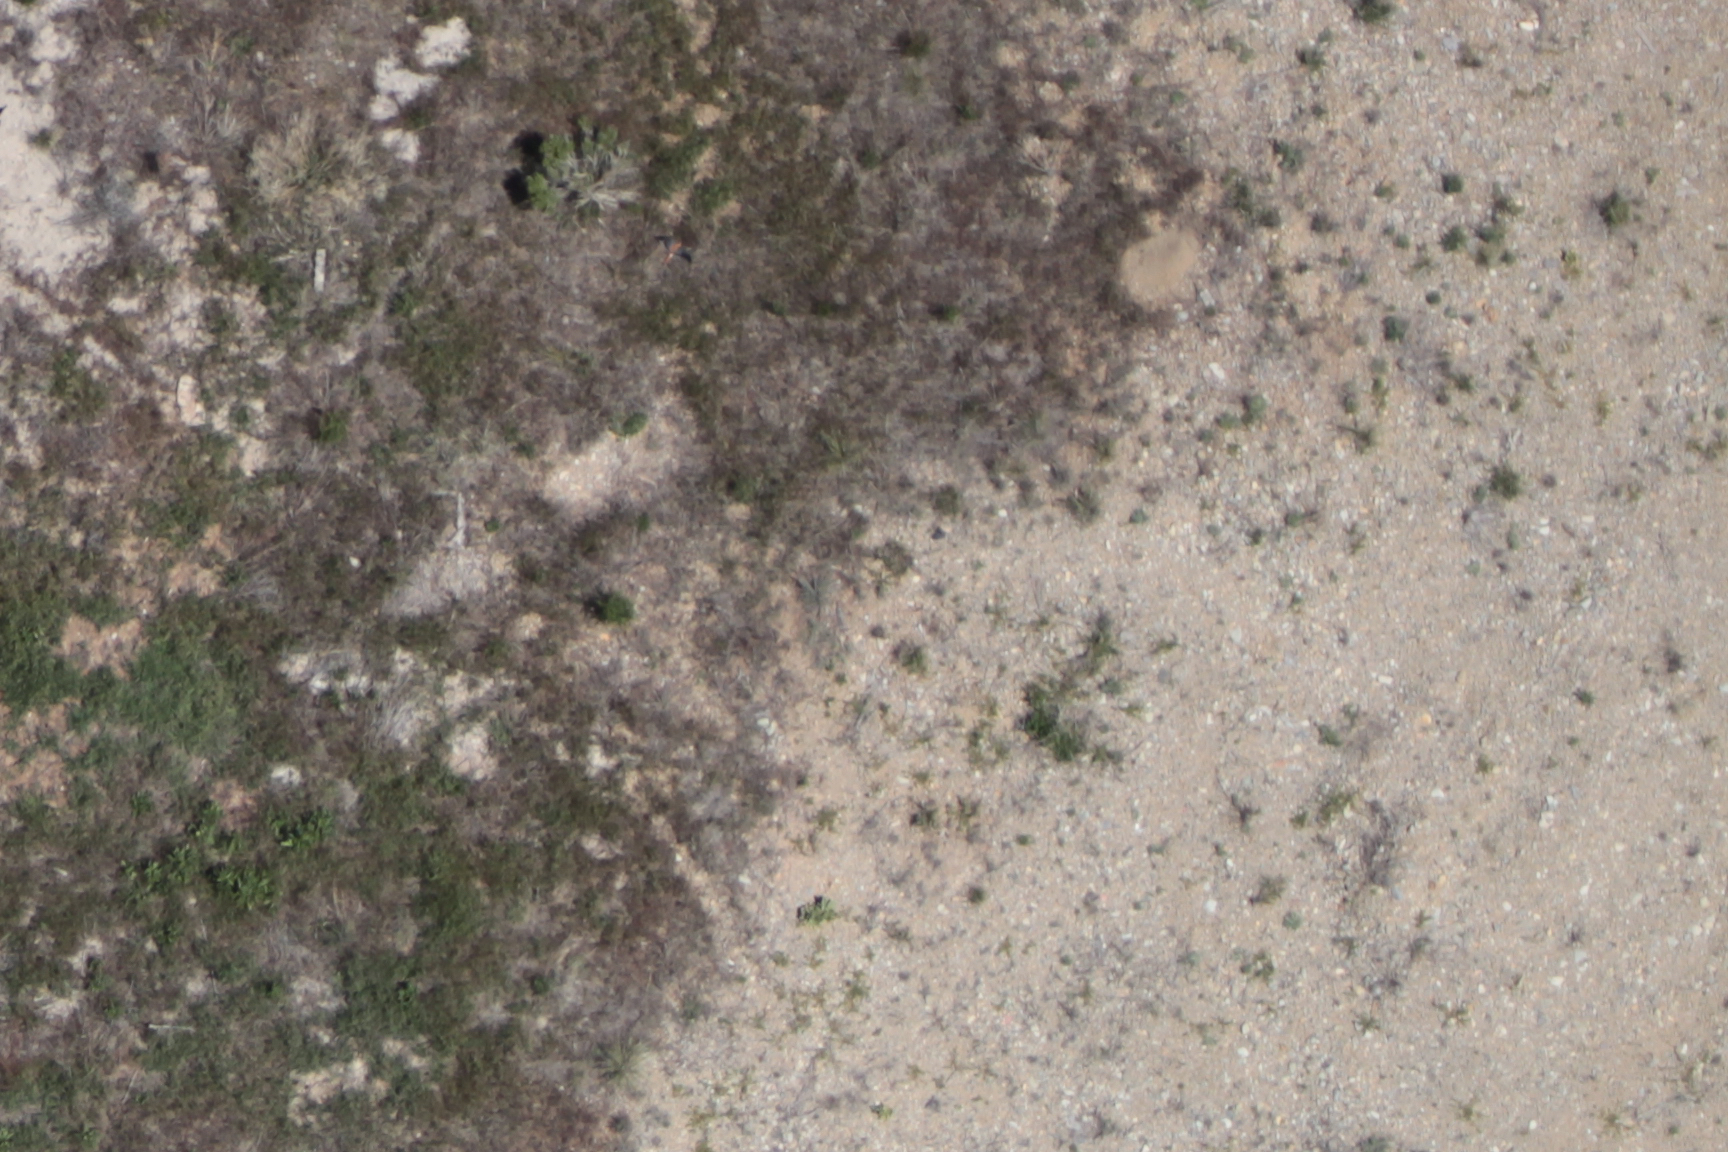burrow: (1124, 226, 1203, 303)
